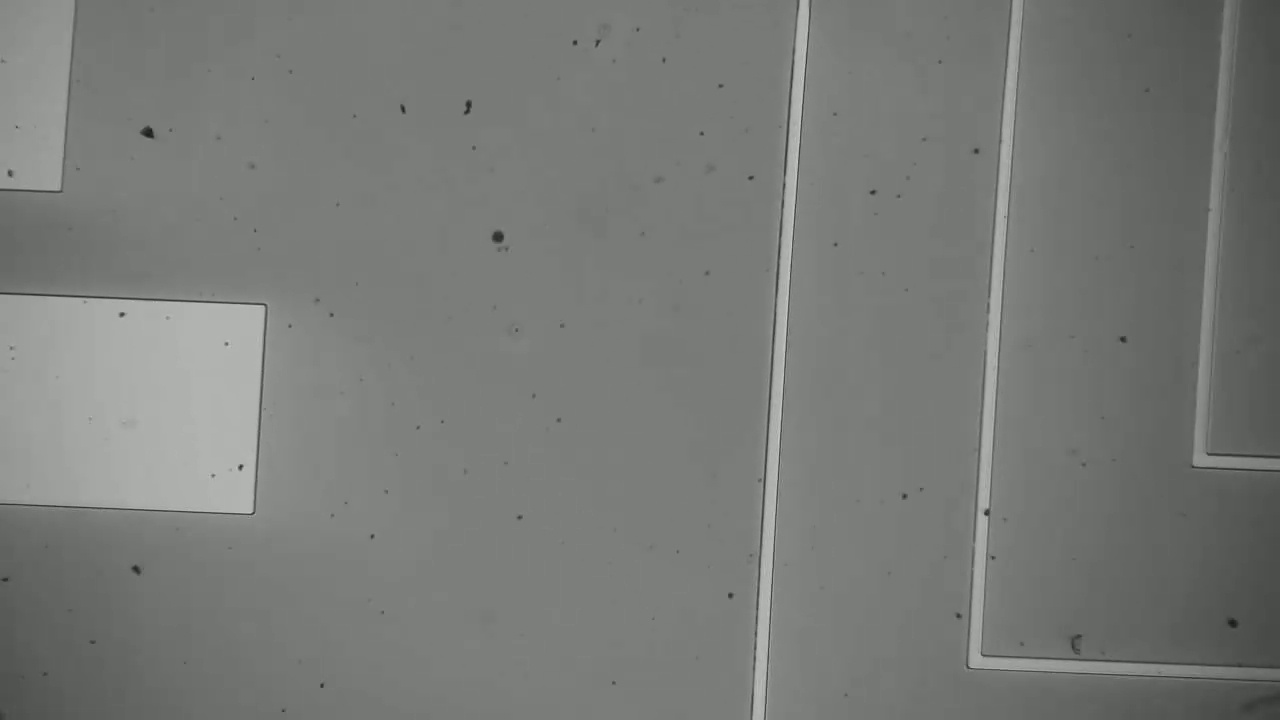stains_enbedded: (970, 503, 996, 527)
